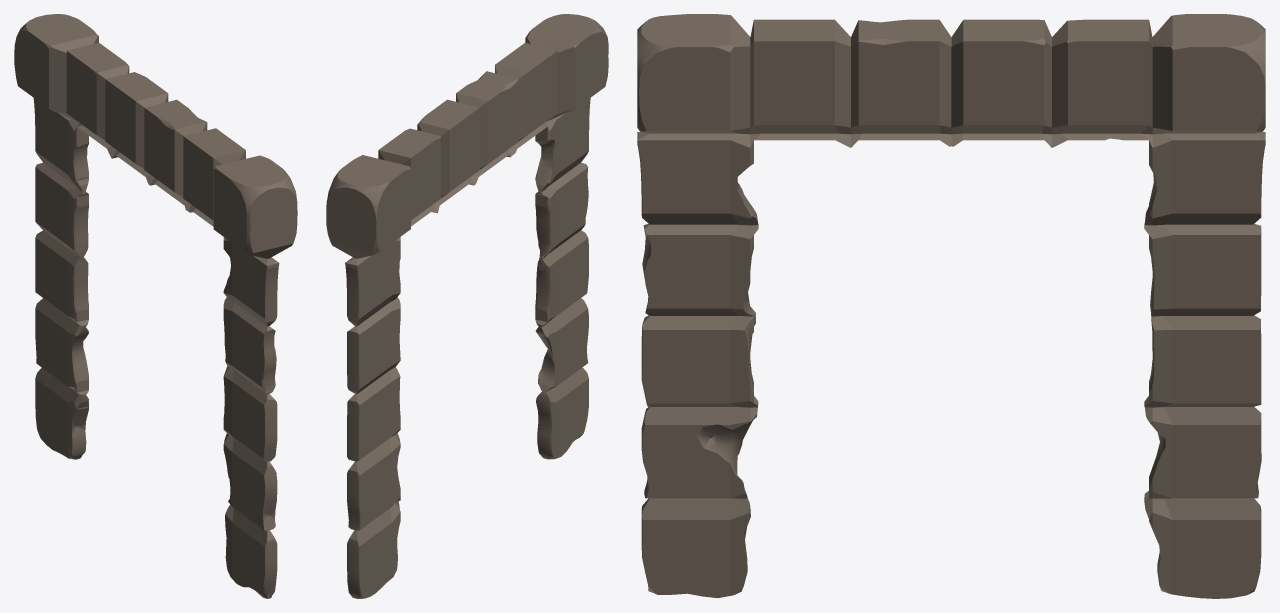
The model's file is gate.fbx.
The picture shows the model from 3 angles, left to right: view 1: azimuth 30°, elevation 25°; view 2: azimuth 150°, elevation 25°; view 3: azimuth 270°, elevation 25°; orthographic projection. The views are drawn at different scales.
Visible parts, largest first — view 1: Plane.005_dmg; view 2: Plane.005_dmg; view 3: Plane.005_dmg.
Part boxes in pixels (<box>): Plane.005_dmg: <box>14,14,297,598</box>; Plane.005_dmg: <box>326,14,608,598</box>; Plane.005_dmg: <box>637,14,1265,598</box>.
Size of the model in its own units: 49.59 by 397 by 400.
